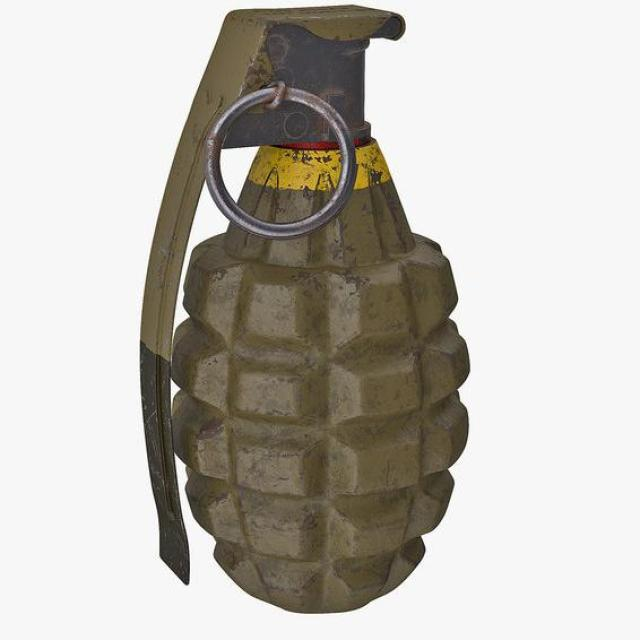grenade: (137, 8, 474, 615)
